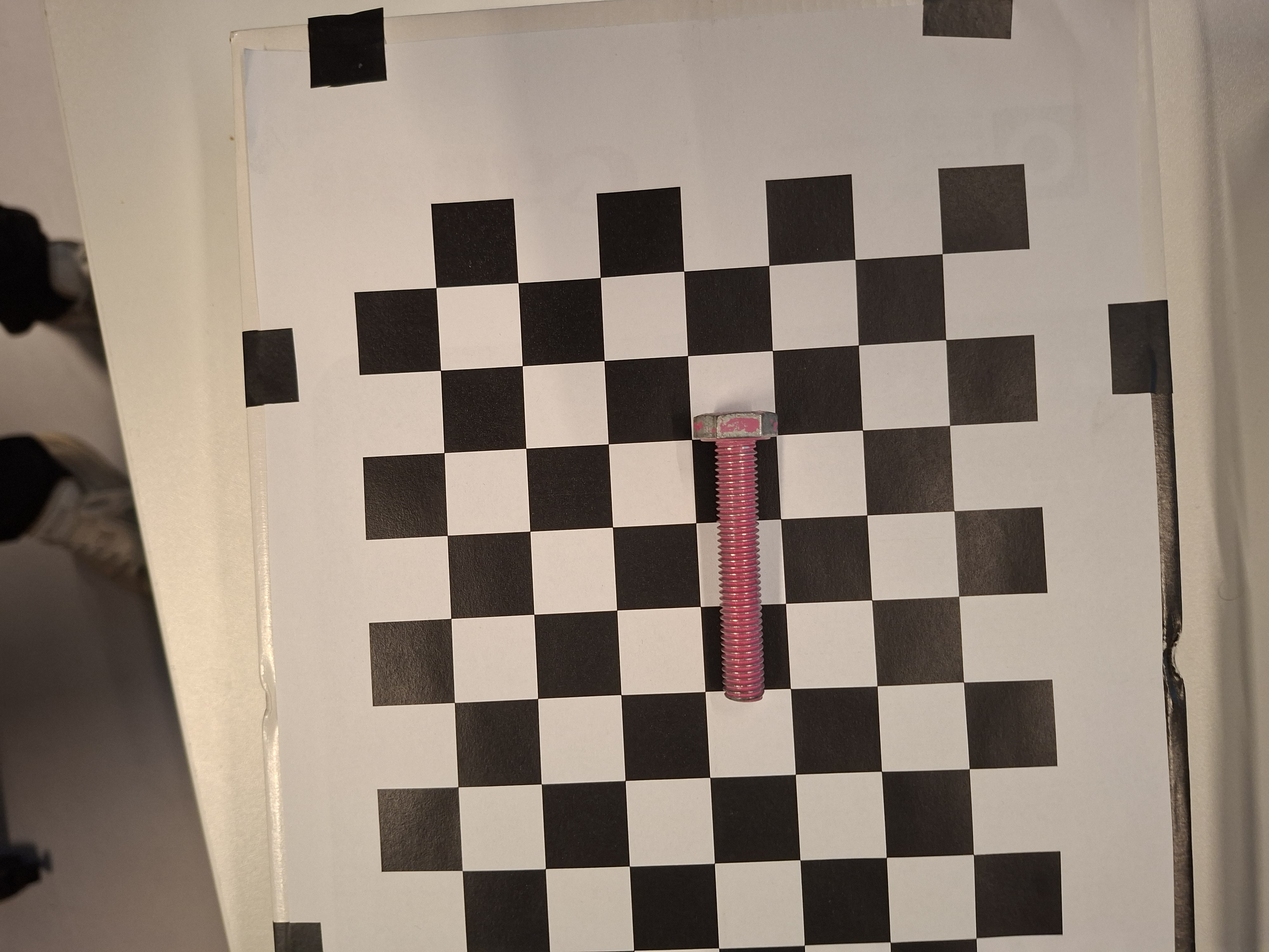hex_bolt: (677, 409, 787, 707)
